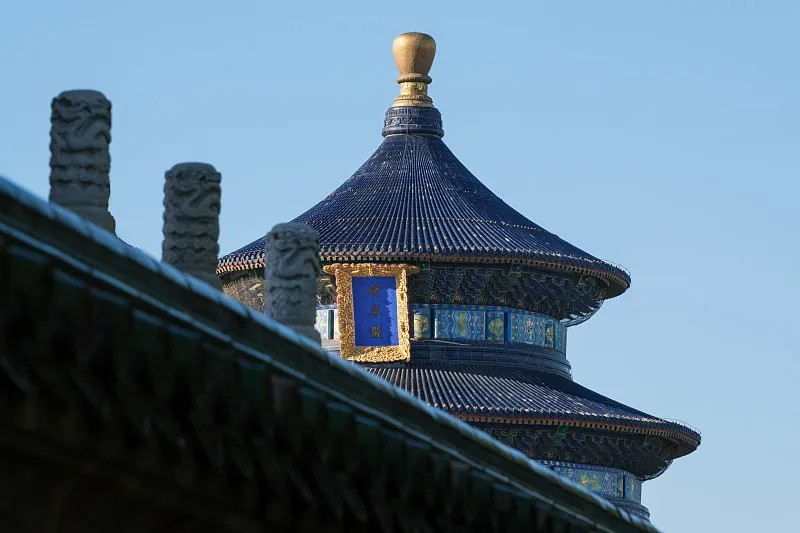Heaven: (208, 32, 701, 519)
